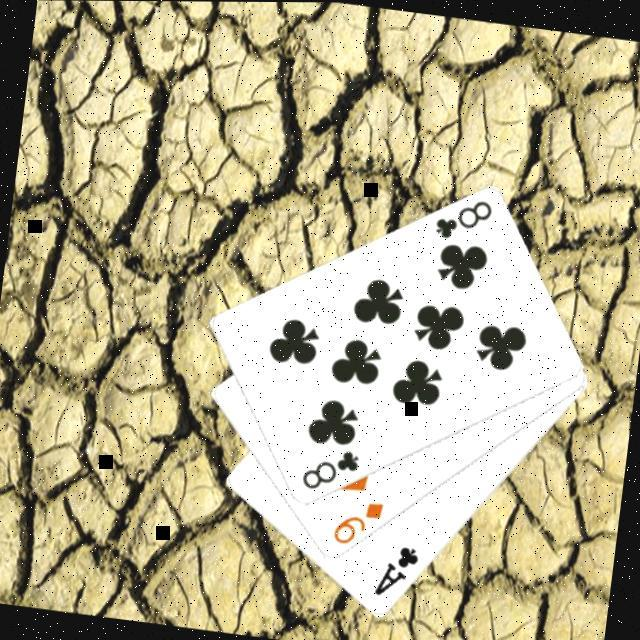8C: (431, 193, 498, 249), (298, 444, 365, 499)
9D: (330, 495, 388, 553)
AC: (370, 542, 424, 605)
